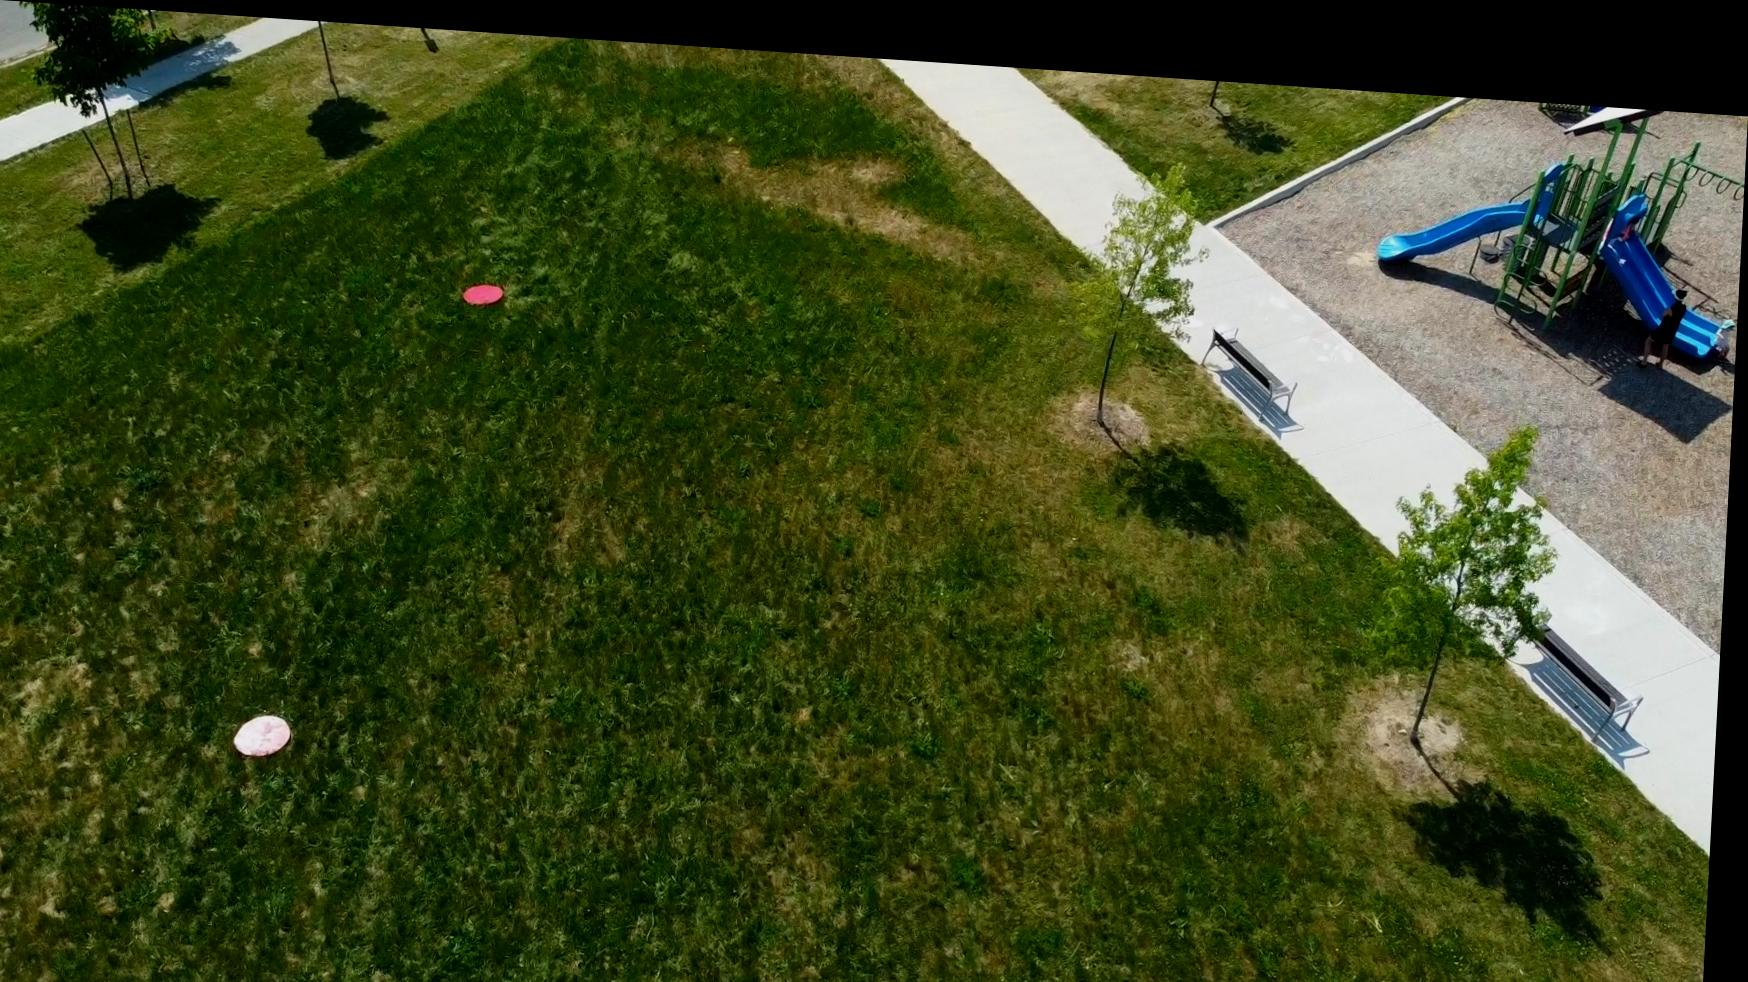Red: (462, 273, 509, 303)
Unknown: (239, 706, 301, 756)
